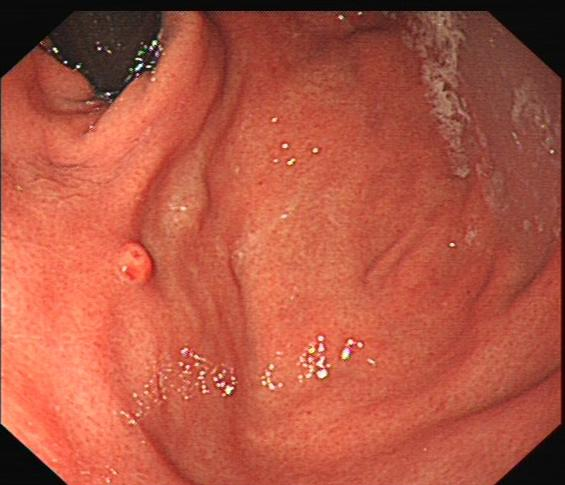Polyp: (105, 231, 166, 293)
